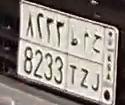2: (32, 12, 45, 80)
3: (53, 18, 68, 86), (42, 14, 55, 81)
8: (22, 10, 36, 76)
J: (90, 32, 103, 95)
T: (69, 24, 80, 87)
Z: (80, 30, 91, 91)
